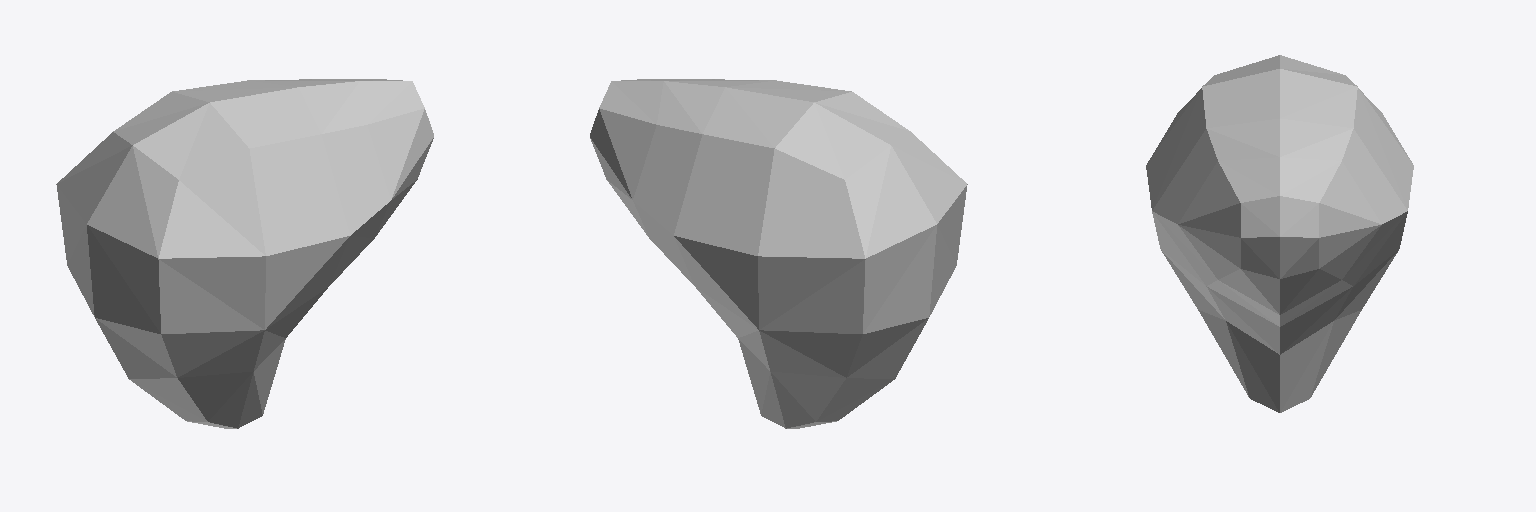
File: Liver.obj
The picture shows the model from 3 angles: view 1: azimuth 30°, elevation 25°; view 2: azimuth 150°, elevation 25°; view 3: azimuth 270°, elevation 25°; orthographic projection.
Visible parts, largest first — view 1: liver; view 2: liver; view 3: liver.
Part boxes in pixels (x1,y1,x2,y2): liver: (56, 79, 433, 428); liver: (590, 79, 967, 428); liver: (1146, 55, 1413, 412).
Size of the model in its own units: 119 by 110 by 81.4.